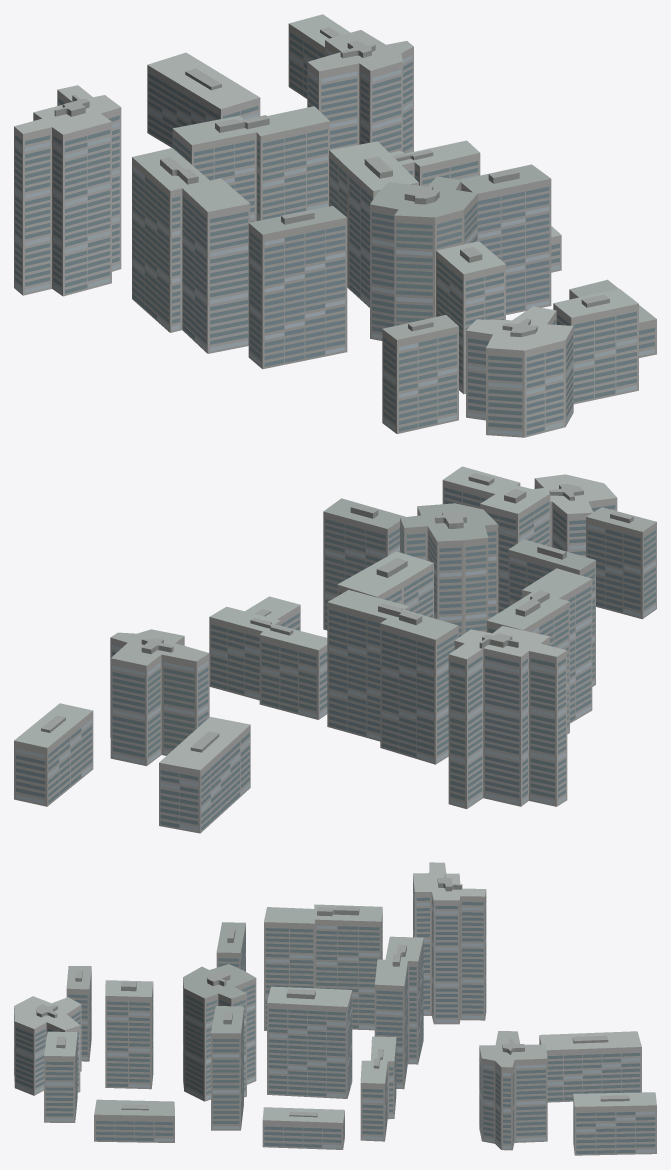
File: apt-a14272309.glb
3 renders of one model, top to bottom at view 1: azimuth 30°, elevation 25°; view 2: azimuth 150°, elevation 25°; view 3: azimuth 270°, elevation 25°, orthographic. The views are drawn at different scales.
Visible parts, largest first — view 1: apt-a14272309; view 2: apt-a14272309; view 3: apt-a14272309.
Part boxes in pixels (bbox=[...]): apt-a14272309: bbox=[14, 14, 656, 437]; apt-a14272309: bbox=[14, 466, 656, 833]; apt-a14272309: bbox=[14, 862, 656, 1155].
Bounding box in the file's own units: 192 × 68 × 308.
